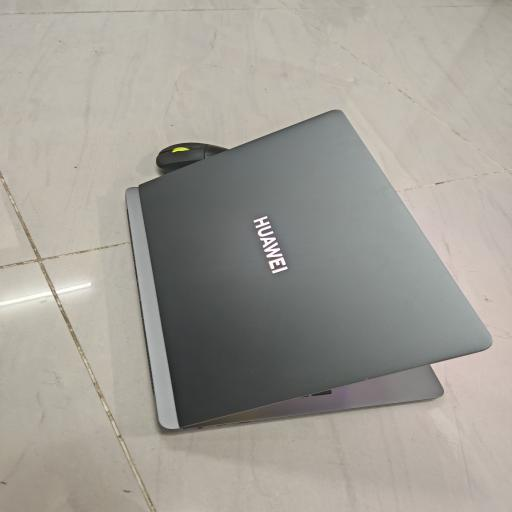laptop: (126, 110, 491, 428)
mouse: (156, 143, 227, 173)
